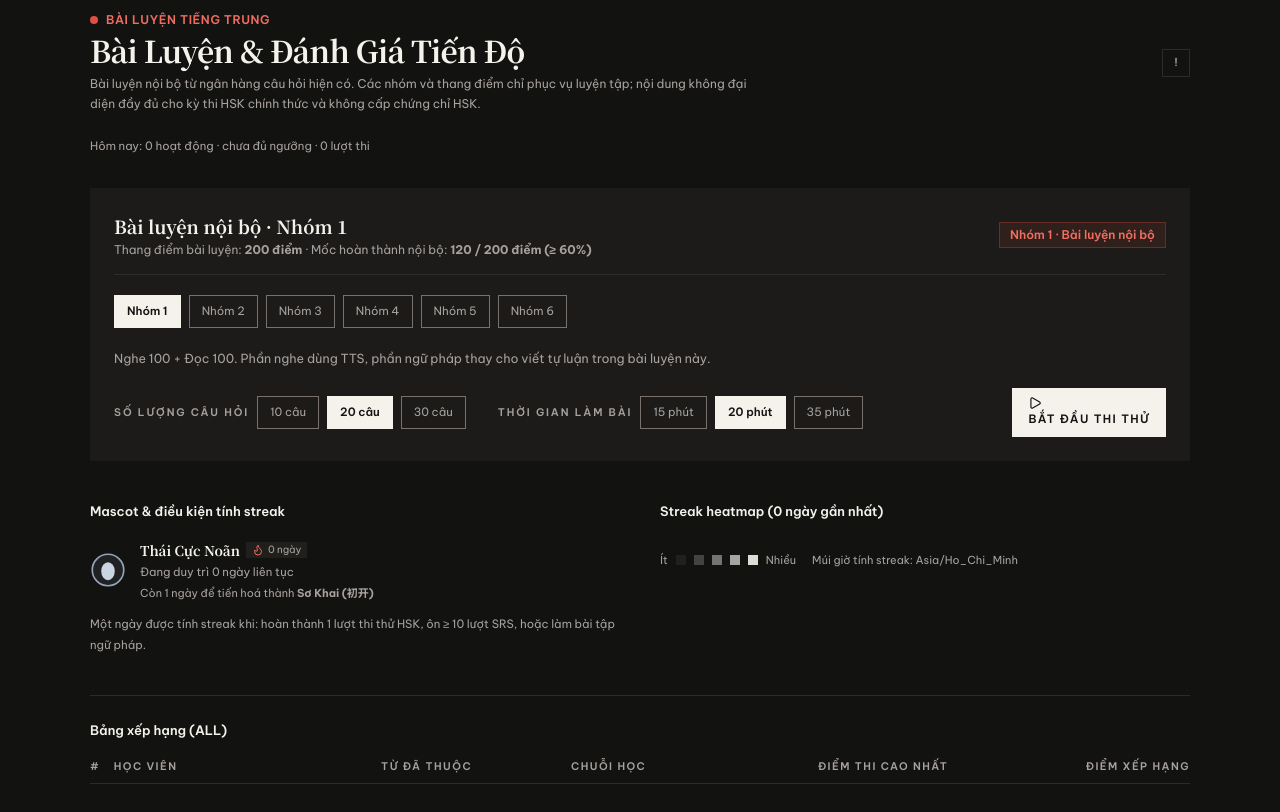
Test case: speech status no-voice gives accessible recovery without changing the attempt
Click the button "Bắt đầu thi thử". click: (1089, 413)
box: left=1012, top=388, right=1166, bottom=437
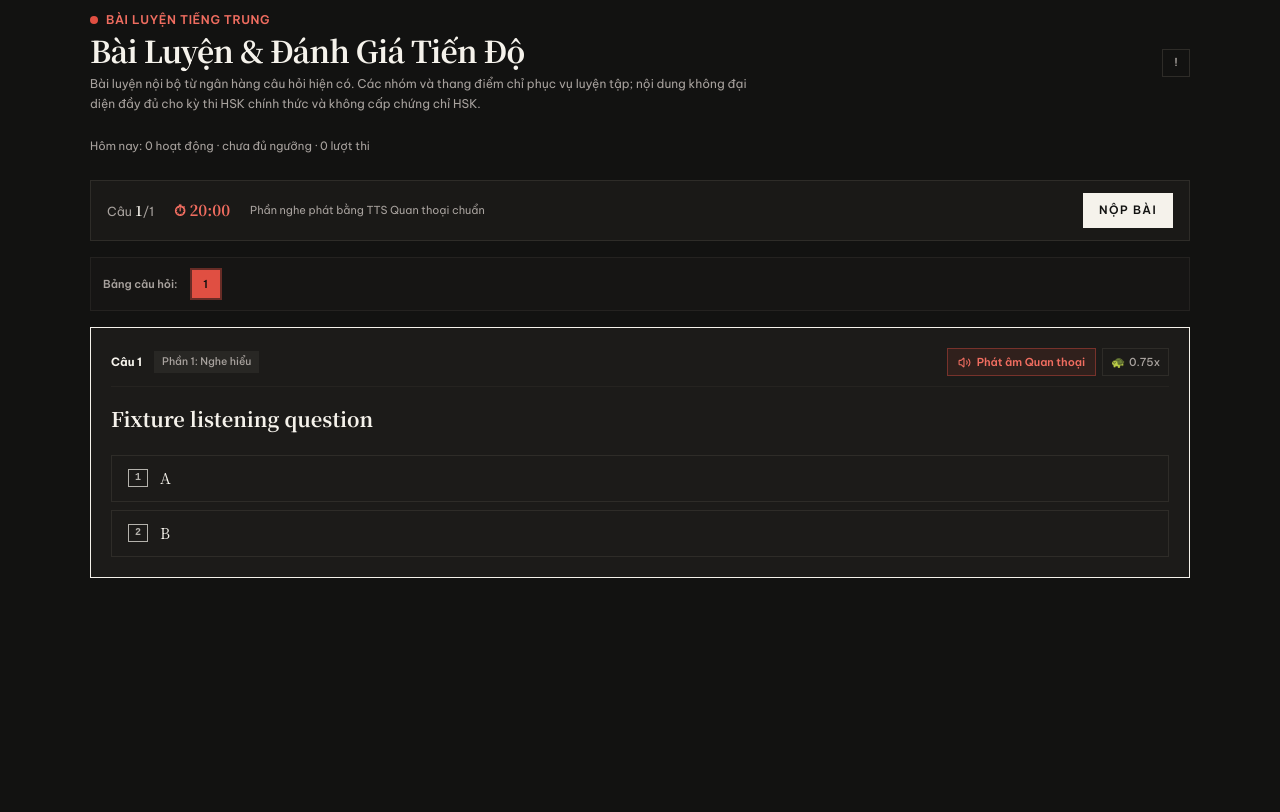
expect the text "Fixture listening question" is shown: met, box left=111, top=404, right=373, bottom=433
Click the button "Phát âm Quan thoại". click: (1021, 362)
box: left=947, top=348, right=1096, bottom=376
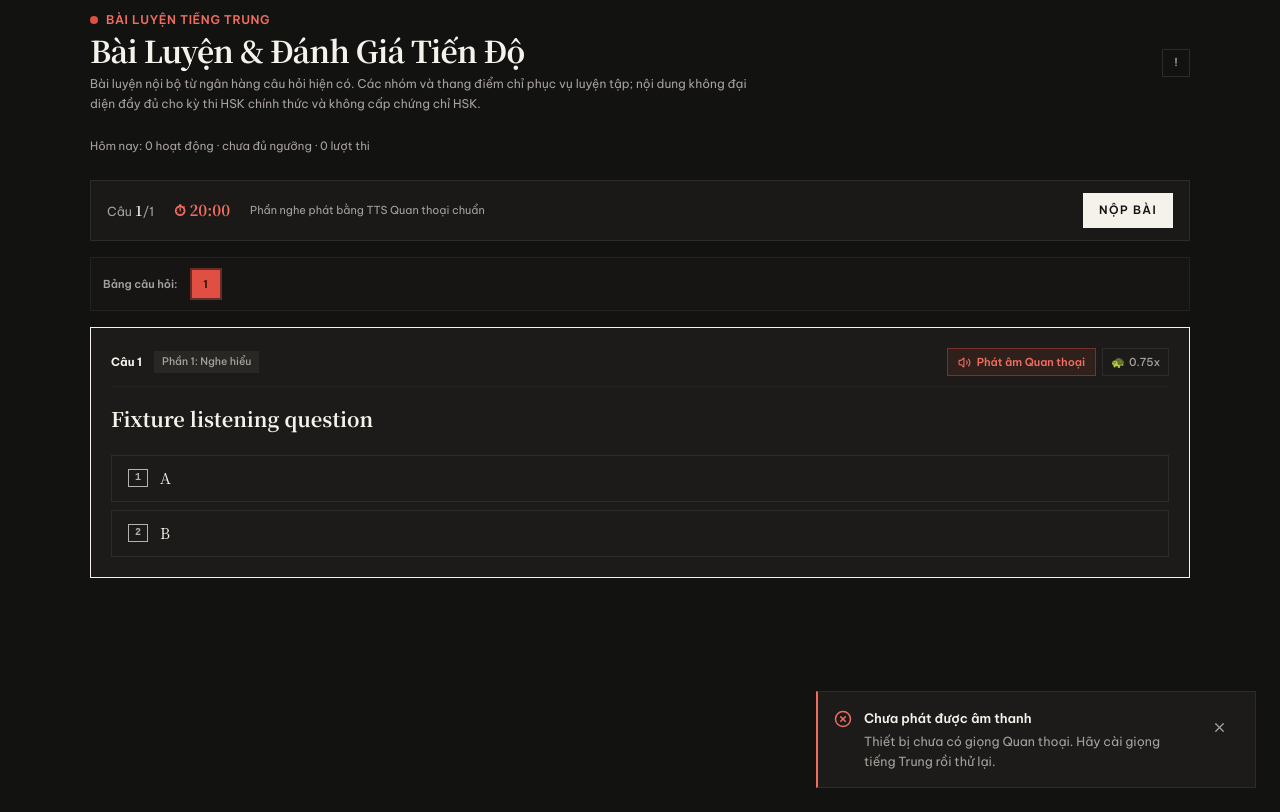
expect the message shows "cài giọng tiếng Trung": met, box left=864, top=733, right=1160, bottom=769
